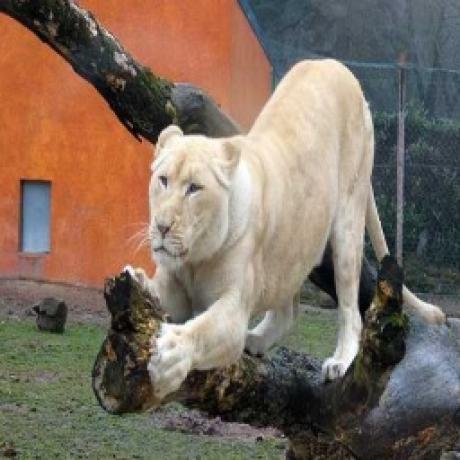Lion: (139, 52, 407, 397)
